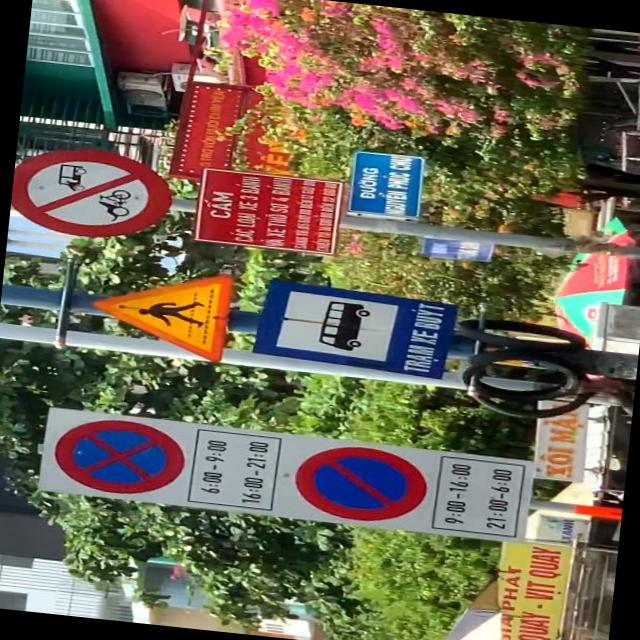P-130: (49, 411, 191, 497)
P-131a: (289, 438, 429, 527)
W-224: (90, 258, 232, 364)
